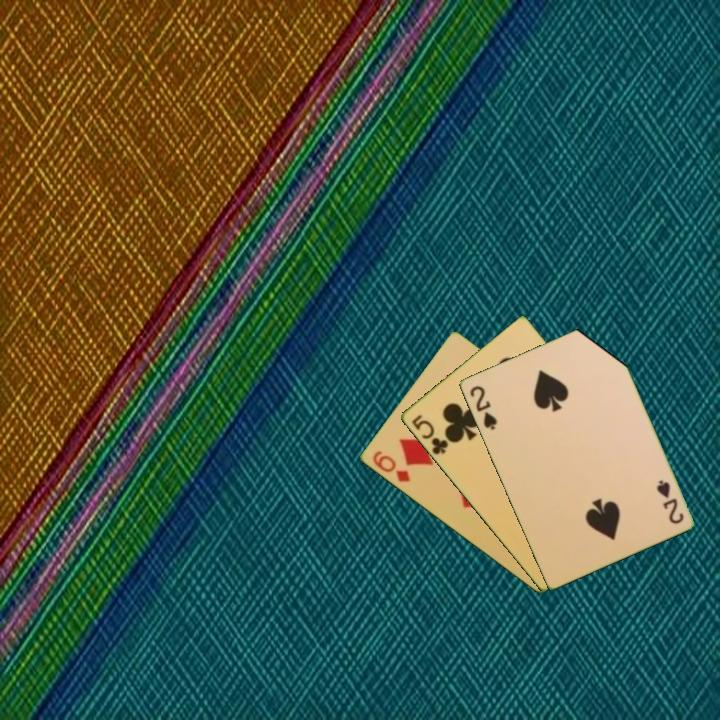2s: (466, 382, 500, 433), (652, 476, 686, 527)
5c: (408, 411, 451, 458)
6d: (369, 447, 413, 485)
